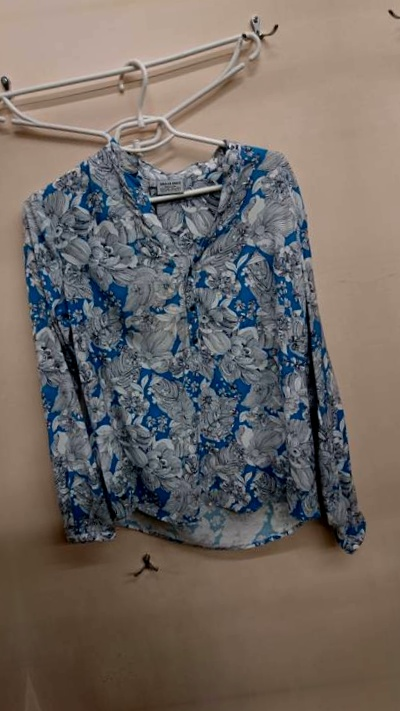Blouse: (0, 76, 389, 619), (358, 27, 400, 570)
